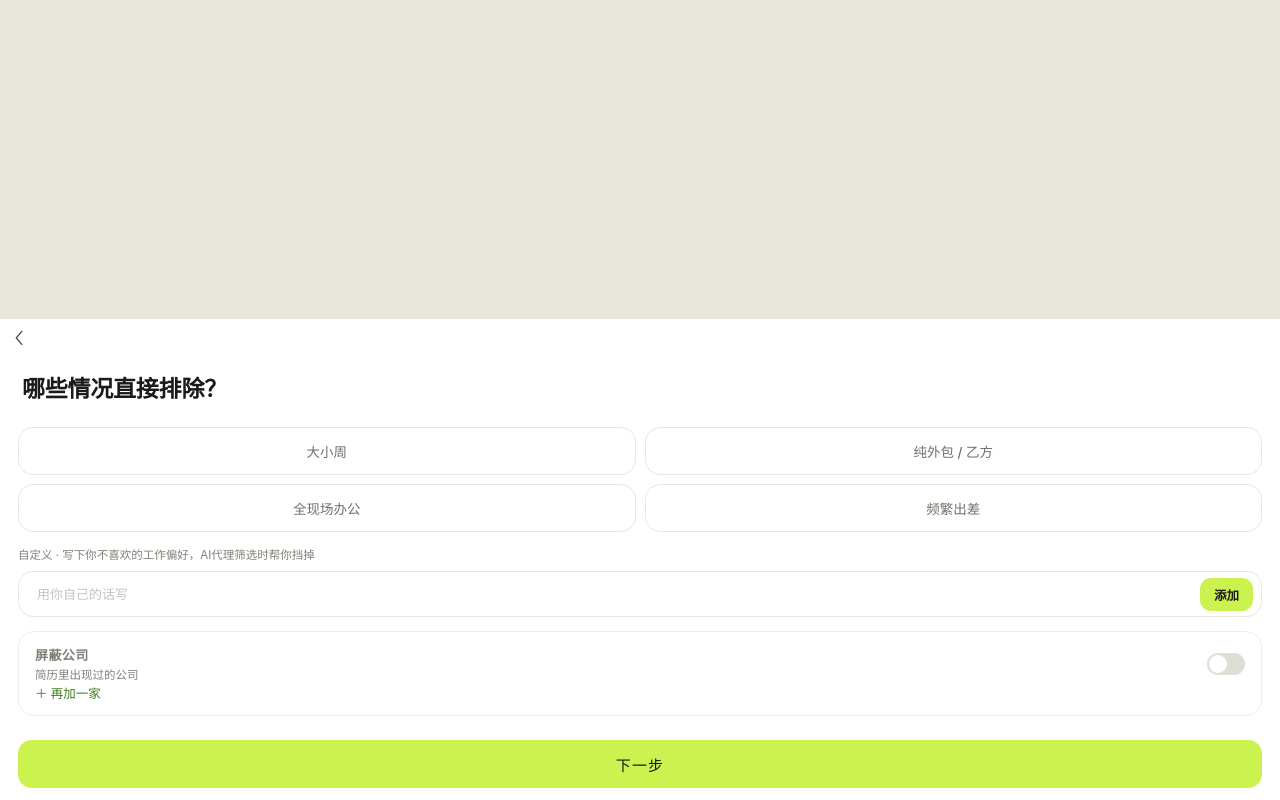
引导问答 硬性排除：私有诉求与权威屏蔽（Task 7） › Backend 社招：简历公司名不默认已屏蔽；缺组织编号的经历让一键提示补选且不部分执行
(page scrolled)
Click the switch named "一键屏蔽简历中的公司" at (1226, 664), box [1207,653,1245,675]
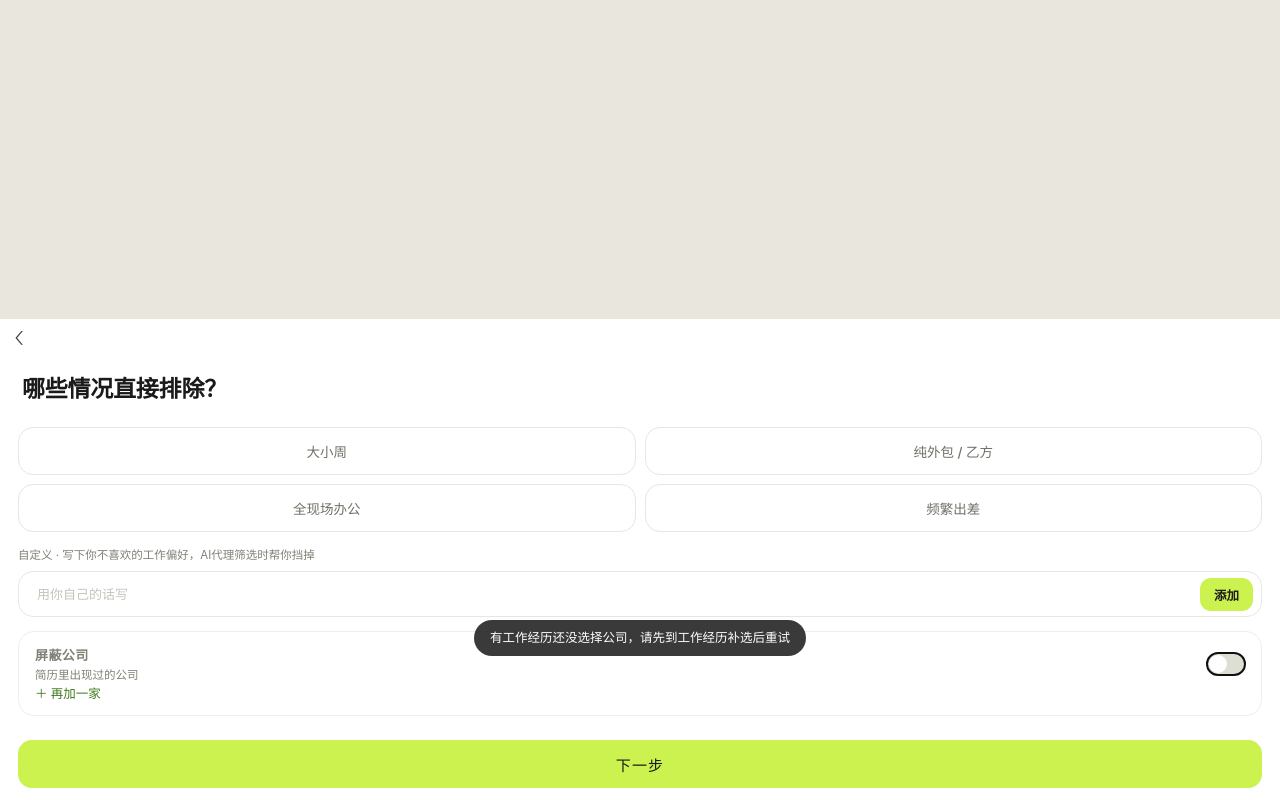
Now the text "请先到工作经历补选" is shown, box [490,630,790,645]
